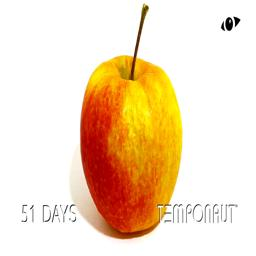Apple Unripe: (79, 4, 184, 237)
